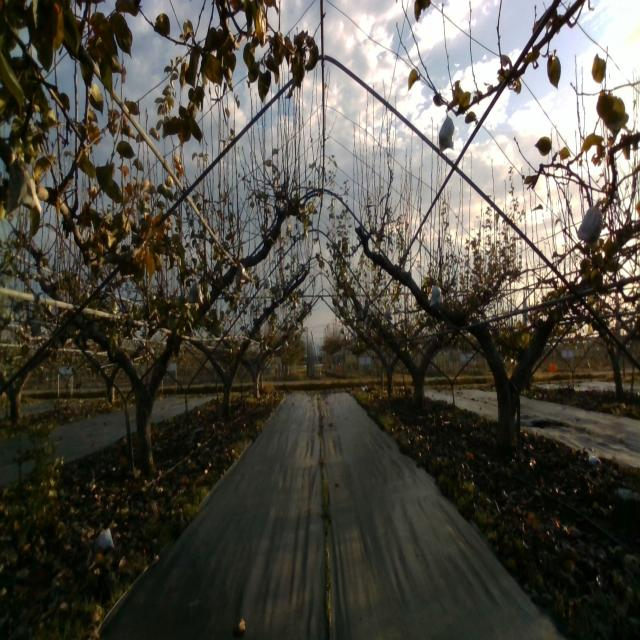pearbags: (4, 149, 39, 220), (577, 198, 603, 245), (438, 110, 454, 154), (188, 282, 204, 304), (236, 262, 249, 286), (430, 285, 444, 306)
